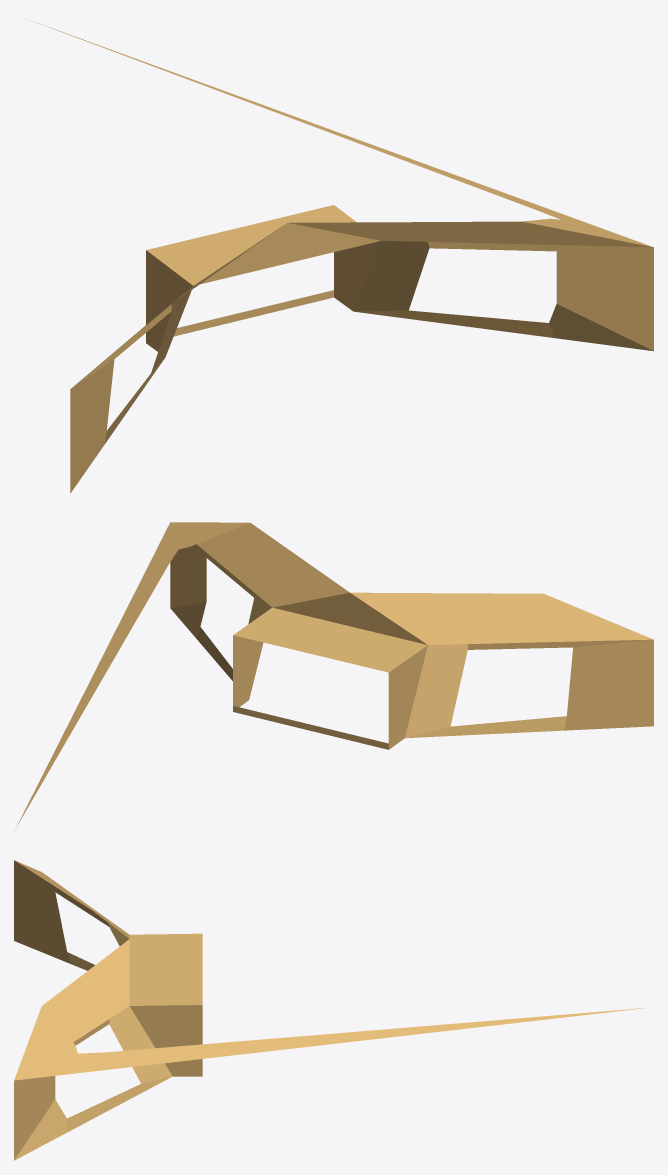
The model's file is hullc.glb.
The picture shows the model from 3 angles, top to bottom: view 1: azimuth 30°, elevation 25°; view 2: azimuth 150°, elevation 25°; view 3: azimuth 270°, elevation 25°; orthographic projection. The views are drawn at different scales.
Visible parts, largest first — view 1: Hull.026, Hull.023, Hull.007, Hull.022, Hull.029, Hull.027, Hull.002, Hull.006, Hull.025, Hull.005, Hull.030, Hull.008 (+2 smaller); view 2: Hull.021, Hull.027, Hull.023, Hull.007, Hull.002, Hull.028, Hull.022, Hull.006, Hull.026, Hull.019, Hull.005, Hull.008 (+3 smaller); view 3: Hull.002, Hull.007, Hull.023, Hull.027, Hull.005, Hull.026, Hull.029, Hull.030, Hull.025, Hull.021, Hull.020.
Part boxes in pixels (left/top/right/bottom): Hull.026: left=555, top=245, right=653, bottom=350; Hull.023: left=289, top=221, right=652, bottom=247; Hull.007: left=146, top=205, right=356, bottom=285; Hull.022: left=200, top=223, right=380, bottom=284; Hull.029: left=353, top=240, right=429, bottom=311; Hull.027: left=70, top=359, right=114, bottom=493; Hull.002: left=27, top=19, right=653, bottom=247; Hull.006: left=146, top=250, right=192, bottom=351; Hull.025: left=355, top=310, right=554, bottom=337; Hull.005: left=334, top=241, right=380, bottom=311; Hull.030: left=549, top=304, right=653, bottom=351; Hull.008: left=173, top=290, right=333, bottom=336; Hull.021: left=350, top=592, right=653, bottom=644; Hull.027: left=564, top=639, right=653, bottom=730; Hull.023: left=197, top=522, right=349, bottom=607; Hull.007: left=233, top=607, right=427, bottom=672; Hull.002: left=14, top=522, right=249, bottom=830; Hull.028: left=405, top=644, right=468, bottom=737; Hull.022: left=273, top=593, right=427, bottom=644; Hull.006: left=388, top=645, right=427, bottom=749; Hull.026: left=170, top=544, right=206, bottom=608; Hull.019: left=405, top=716, right=566, bottom=738; Hull.005: left=233, top=635, right=263, bottom=707; Hull.008: left=233, top=706, right=388, bottom=749; Hull.002: left=14, top=1006, right=651, bottom=1080; Hull.007: left=129, top=933, right=202, bottom=1005; Hull.023: left=42, top=939, right=129, bottom=1042; Hull.027: left=14, top=860, right=70, bottom=963; Hull.005: left=130, top=1005, right=202, bottom=1076; Hull.026: left=14, top=1076, right=55, bottom=1160; Hull.029: left=109, top=1006, right=172, bottom=1083; Hull.030: left=14, top=1099, right=66, bottom=1160; Hull.025: left=66, top=1076, right=171, bottom=1132; Hull.021: left=15, top=860, right=129, bottom=938; Hull.020: left=15, top=861, right=109, bottom=926.
Bounding box in the file's own units: 31.63 × 7.52 × 38.9.
